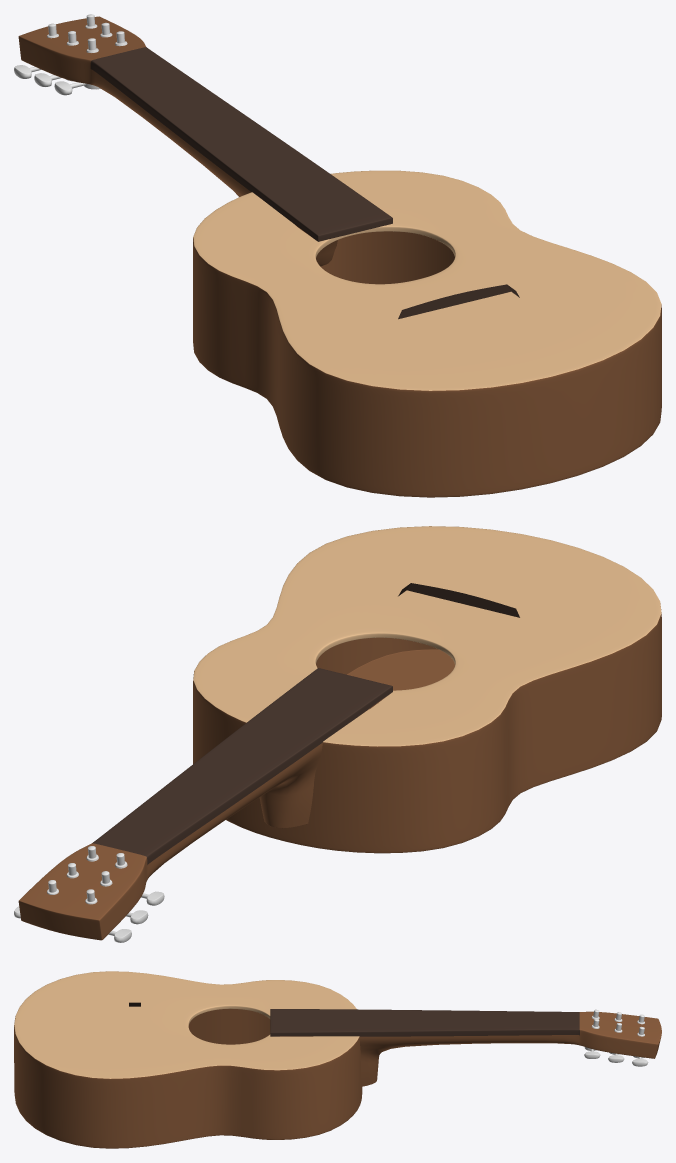
Rendered from guitar.gltf.
3 views of the same model, one above another, from view 1: azimuth 30°, elevation 25°; view 2: azimuth 150°, elevation 25°; view 3: azimuth 270°, elevation 25° (orthographic). The views are drawn at different scales.
Visible parts, largest first — view 1: Guitar, Cylinder.001, Cylinder; view 2: Guitar, Cylinder, Cylinder.001; view 3: Guitar, Cylinder.001, Cylinder.
Boxes of the visible parts, x1=… form: Guitar: x1=18, y1=16, x2=661, y2=497; Cylinder.001: x1=14, y1=65, x2=100, y2=95; Cylinder: x1=47, y1=14, x2=127, y2=52; Guitar: x1=18, y1=526, x2=661, y2=940; Cylinder: x1=47, y1=846, x2=127, y2=904; Cylinder.001: x1=14, y1=891, x2=164, y2=942; Guitar: x1=14, y1=971, x2=661, y2=1148; Cylinder.001: x1=584, y1=1047, x2=648, y2=1066; Cylinder: x1=591, y1=1009, x2=644, y2=1036.
Bounding box in the file's own units: 0.4015 × 0.1397 × 1.02.
